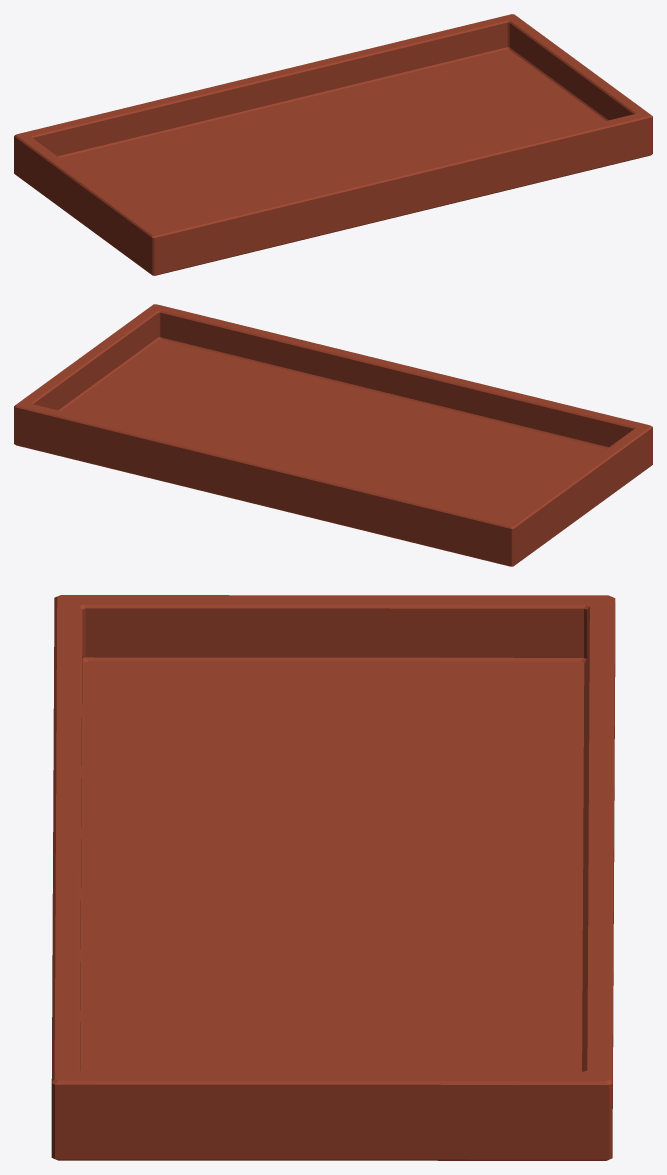
The model's file is O_ tea _hezi.FBX.
The picture shows the model from 3 angles, top to bottom: view 1: azimuth 30°, elevation 25°; view 2: azimuth 150°, elevation 25°; view 3: azimuth 270°, elevation 25°; orthographic projection. The views are drawn at different scales.
Parts seen in each view (by area): view 1: O_ tea _hezi; view 2: O_ tea _hezi; view 3: O_ tea _hezi.
Boxes of the visible parts, box(x1,y1,x2,y2) form: O_ tea _hezi: box(14, 14, 652, 275); O_ tea _hezi: box(14, 304, 652, 566); O_ tea _hezi: box(51, 595, 615, 1160).
Size of the model in its own units: 488 by 37.14 by 238.
